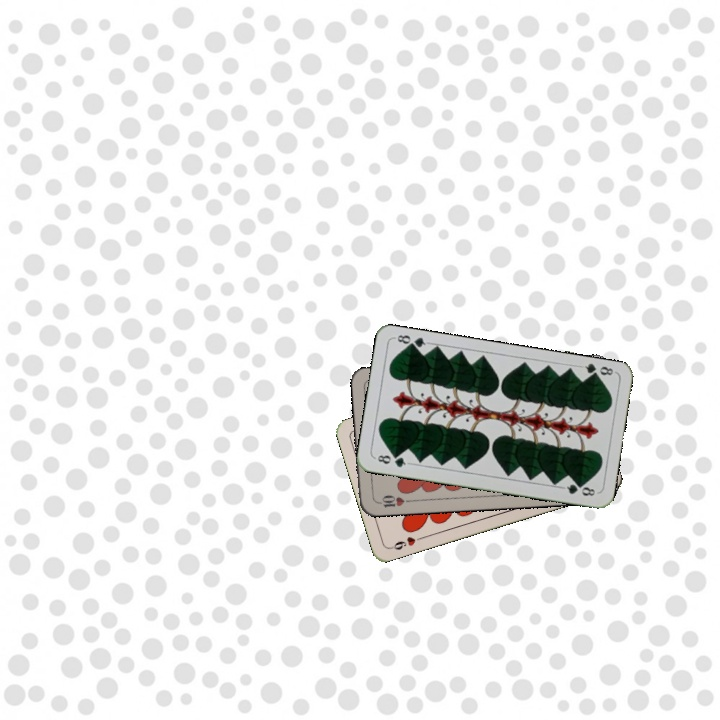G8: (577, 360, 617, 382), (371, 451, 412, 470)
H10: (373, 491, 414, 510)
H9: (386, 532, 426, 552)
